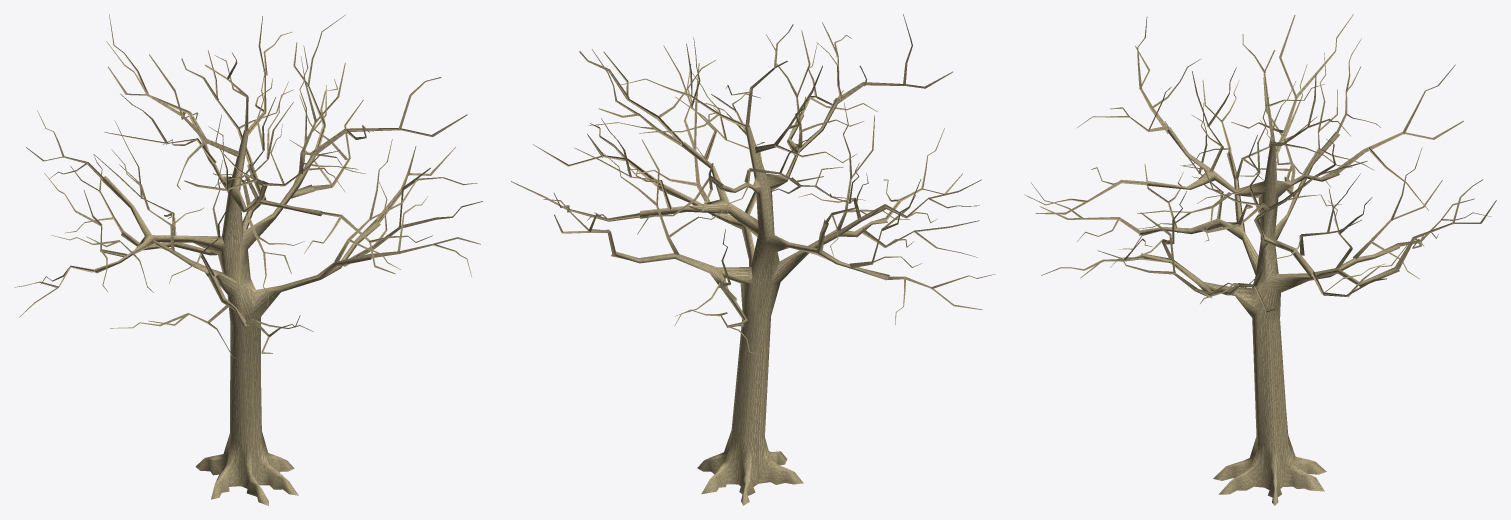
File: INST_HTOWN_APPLETREE.fbx
3 renders of one model, left to right at view 1: azimuth 30°, elevation 25°; view 2: azimuth 150°, elevation 25°; view 3: azimuth 270°, elevation 25°, orthographic. The views are drawn at different scales.
Visible parts, largest first — view 1: INST_HTOWN_APPLETREE; view 2: INST_HTOWN_APPLETREE; view 3: INST_HTOWN_APPLETREE.
Boxes of the visible parts, x1,y1,x2,y2 form: INST_HTOWN_APPLETREE: (14, 14, 482, 505); INST_HTOWN_APPLETREE: (511, 14, 995, 505); INST_HTOWN_APPLETREE: (1024, 14, 1496, 505).
Bounding box in the file's own units: 59123 × 56096 × 55251.
6 materials, 6 textured.
